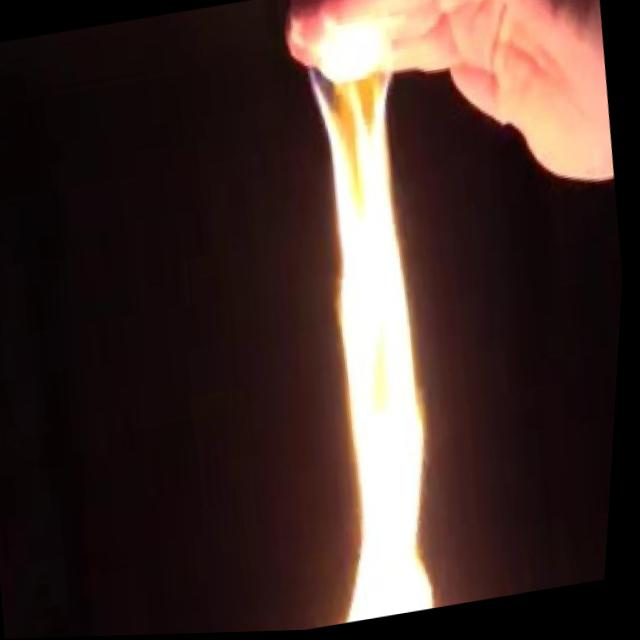Fire: (245, 1, 503, 631)
